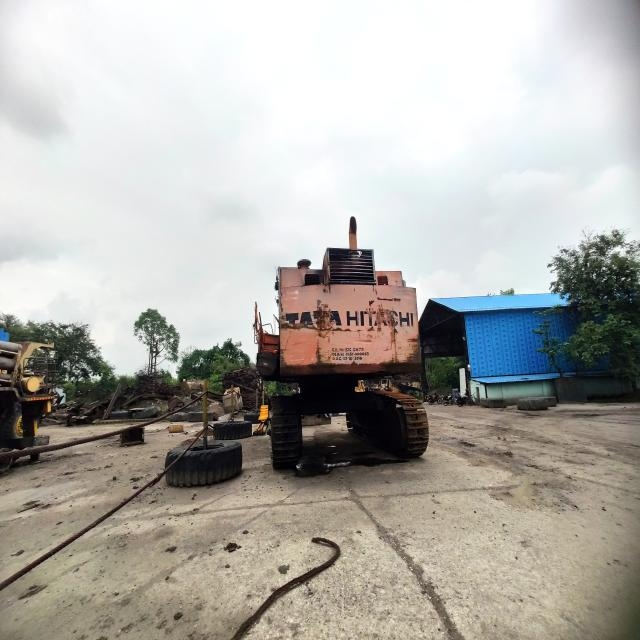excavator: (255, 215, 430, 472)
